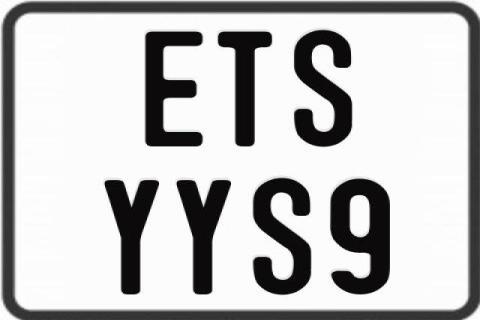0: (329, 177, 394, 295)
E: (142, 32, 200, 152)
S: (291, 28, 351, 146), (253, 177, 312, 295)
T: (217, 31, 276, 149)
Y: (102, 180, 163, 296), (174, 179, 234, 295)
